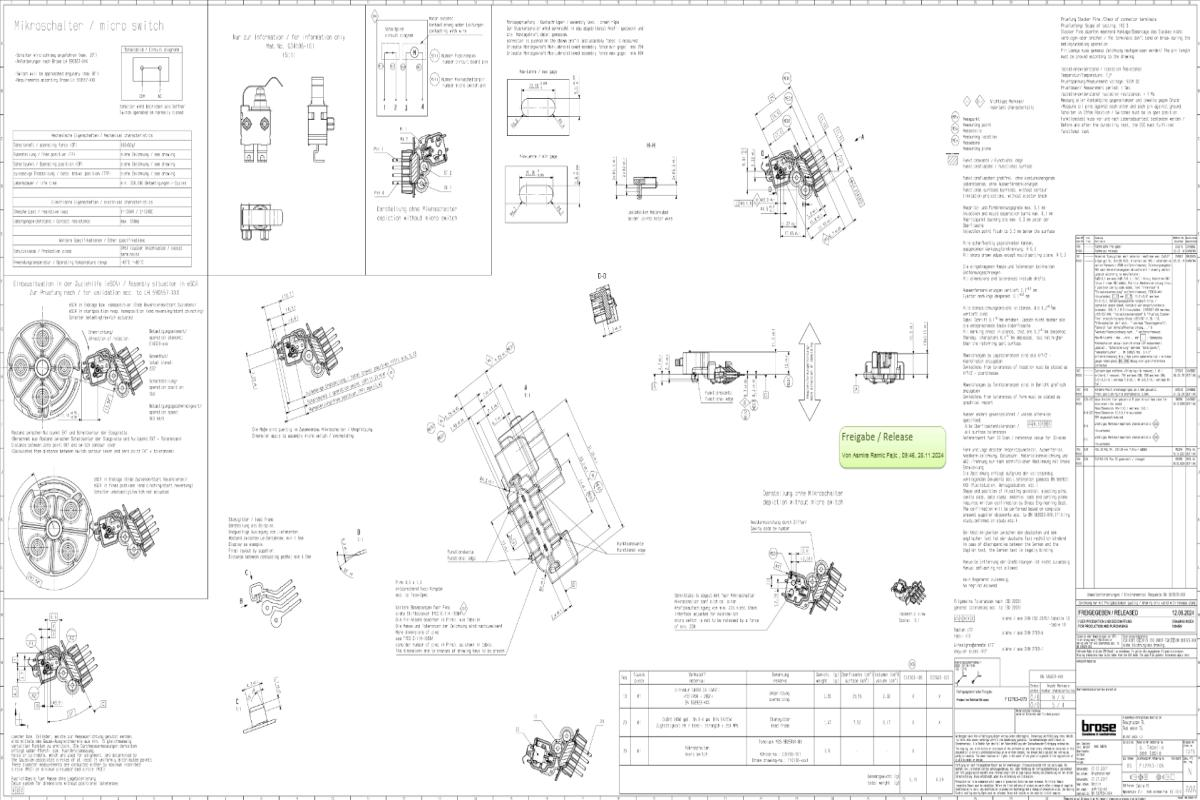falcon_r1: (386, 323, 671, 676), (3, 276, 211, 460), (721, 61, 888, 279), (660, 480, 856, 655), (233, 285, 425, 451), (5, 608, 167, 796), (641, 306, 830, 442), (4, 467, 200, 596), (497, 8, 650, 143), (368, 8, 494, 127), (218, 496, 321, 636), (369, 122, 466, 235), (847, 299, 947, 402), (602, 122, 688, 230), (507, 699, 611, 787), (497, 147, 589, 242), (570, 259, 644, 354), (223, 661, 297, 753), (235, 66, 294, 173), (301, 68, 346, 170), (879, 563, 940, 638), (328, 515, 382, 592), (233, 195, 293, 252)
